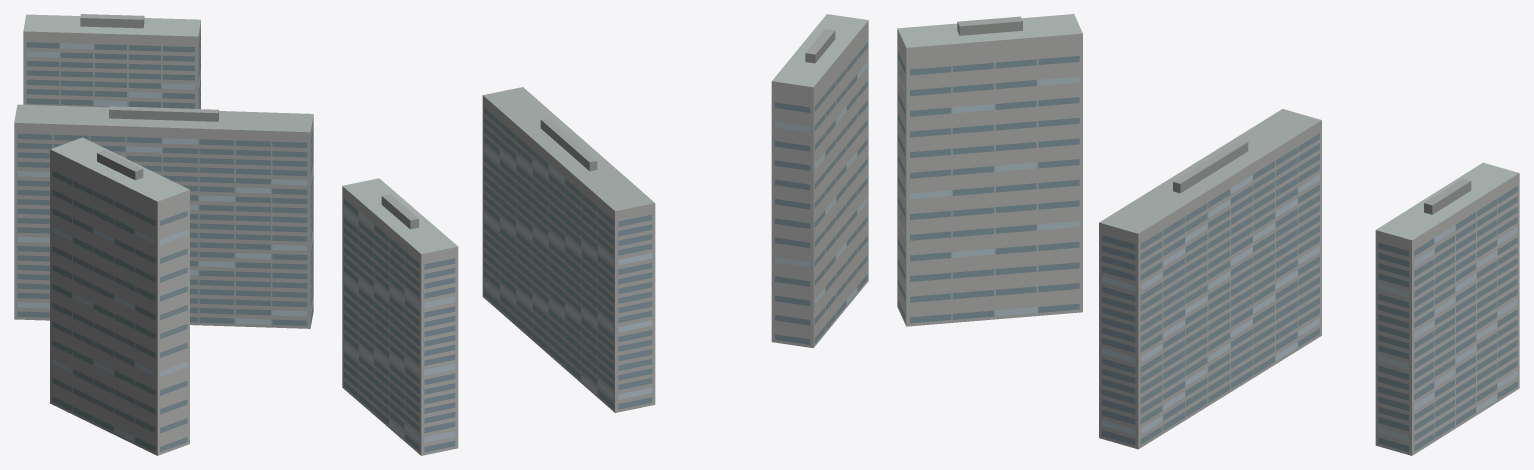
File: apt-a15105602.glb
The picture shows the model from 3 angles, left to right: view 1: azimuth 30°, elevation 25°; view 2: azimuth 150°, elevation 25°; view 3: azimuth 270°, elevation 25°; orthographic projection. The views are drawn at different scales.
Parts seen in each view (by area): view 1: apt-a15105602; view 2: apt-a15105602; view 3: apt-a15105602.
Boxes of the visible parts, x1=… form: apt-a15105602: x1=14, y1=14, x2=313, y2=455; apt-a15105602: x1=342, y1=14, x2=868, y2=455; apt-a15105602: x1=897, y1=14, x2=1519, y2=455.
Bounding box in the file's own units: 88.67 × 73 × 143.
